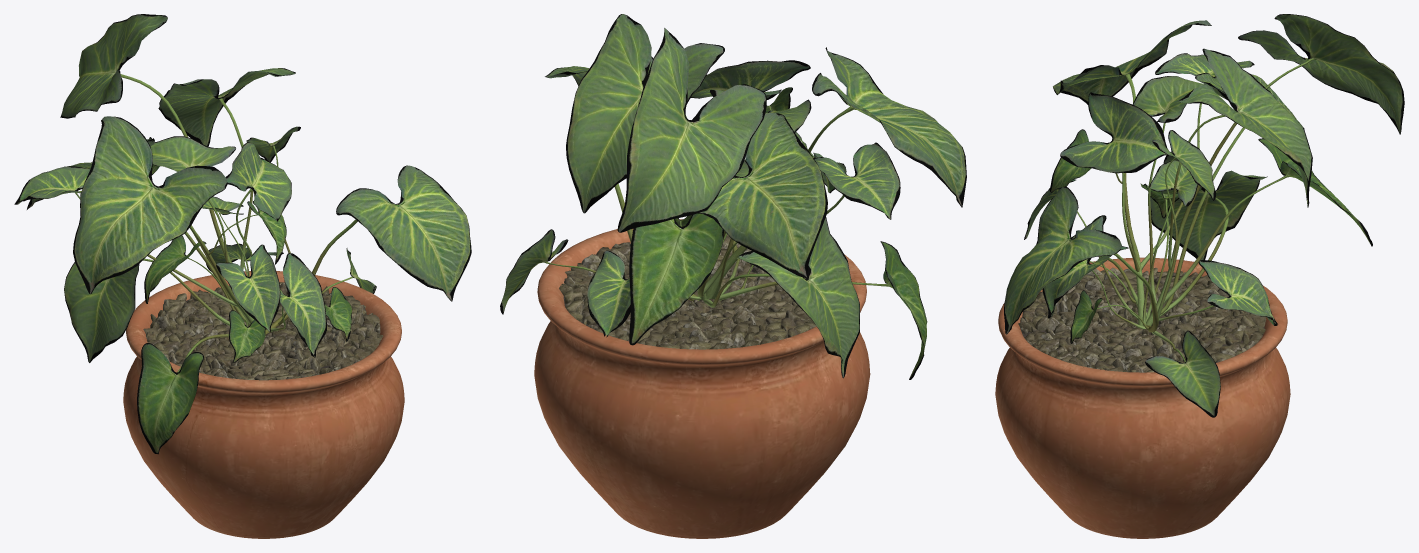
The model's file is ph-plant-tall.glb.
The picture shows the model from 3 angles, left to right: view 1: azimuth 30°, elevation 25°; view 2: azimuth 150°, elevation 25°; view 3: azimuth 270°, elevation 25°; orthographic projection. The views are drawn at different scales.
Parts seen in each view (by area): view 1: potted_plant_02_leaves, potted_plant_02_pot, potted_plant_02_dirt; view 2: potted_plant_02_leaves, potted_plant_02_pot, potted_plant_02_dirt; view 3: potted_plant_02_leaves, potted_plant_02_pot, potted_plant_02_dirt.
Part boxes in pixels (x1,y1,x2,y2): potted_plant_02_leaves: (14, 14, 471, 454); potted_plant_02_pot: (123, 271, 404, 538); potted_plant_02_dirt: (143, 282, 383, 380); potted_plant_02_leaves: (500, 14, 966, 379); potted_plant_02_pot: (534, 219, 870, 538); potted_plant_02_dirt: (559, 234, 816, 349); potted_plant_02_leaves: (1004, 14, 1404, 417); potted_plant_02_pot: (995, 257, 1290, 538); potted_plant_02_dirt: (1018, 267, 1266, 372).
Bounding box in the file's own units: 0.7012 × 0.8412 × 0.6574.
Materials: 2 (2 with a texture image).
